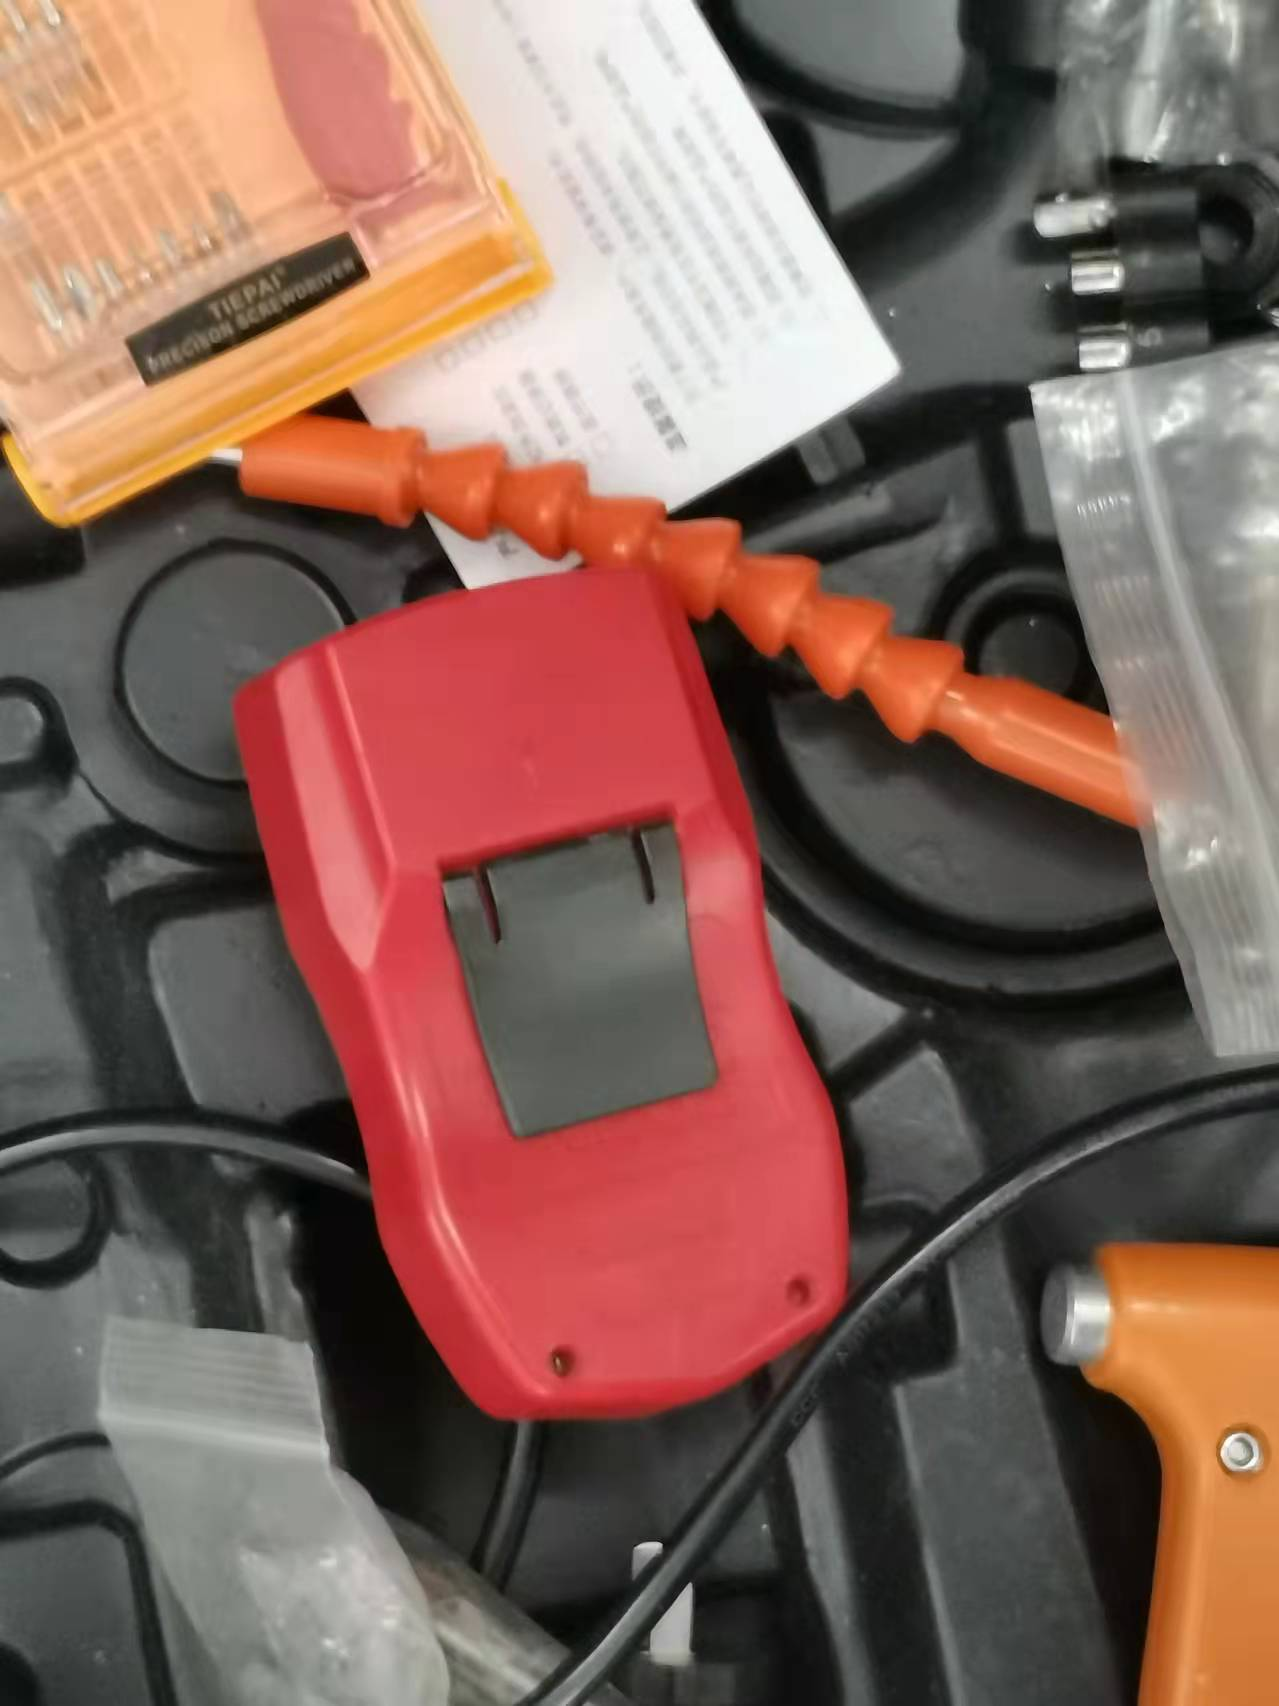Multimeter: (240, 555, 852, 1424)
Screw holes: (541, 1338, 578, 1382), (783, 1273, 814, 1307)
